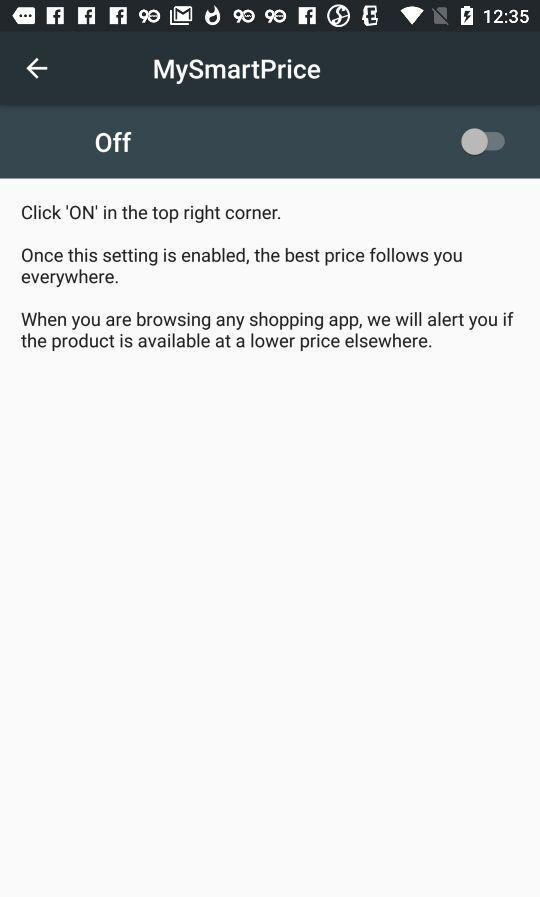Icon: (26, 57, 50, 81)
Switch: (460, 128, 507, 158)
Text: (20, 311, 515, 353), (21, 247, 463, 289), (22, 204, 282, 225), (153, 58, 322, 87), (95, 131, 133, 155)
Toolbar: (1, 34, 540, 106)
UpperTaskBar: (1, 1, 540, 33)
